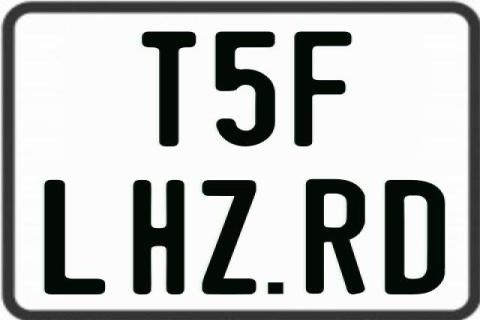0: (212, 31, 277, 146)
D: (385, 178, 449, 298)
F: (293, 30, 354, 148)
H: (130, 178, 182, 294)
L: (44, 178, 105, 296)
R: (304, 178, 364, 298)
T: (139, 29, 195, 145)
Z: (201, 179, 258, 295)
